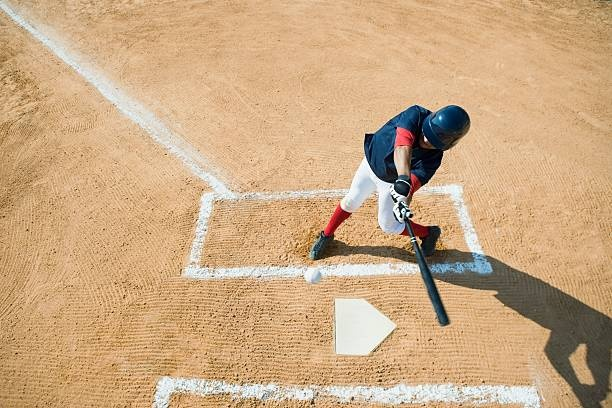bita: (401, 215, 455, 328)
